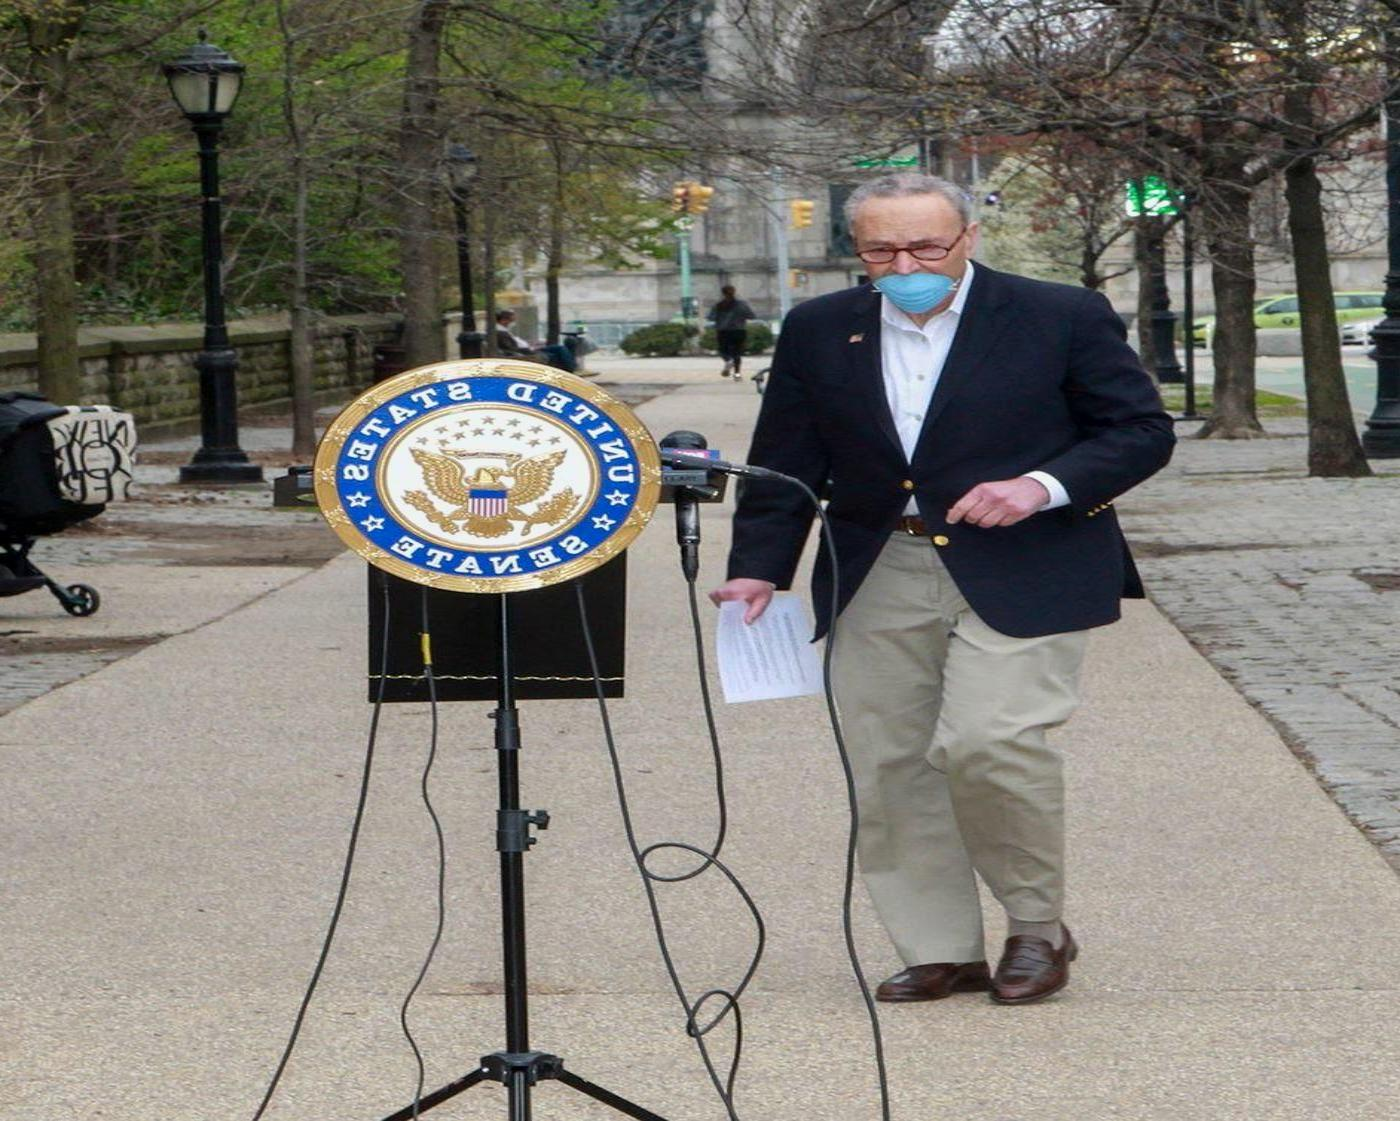mask_weared_incorrect: (841, 172, 983, 319)
